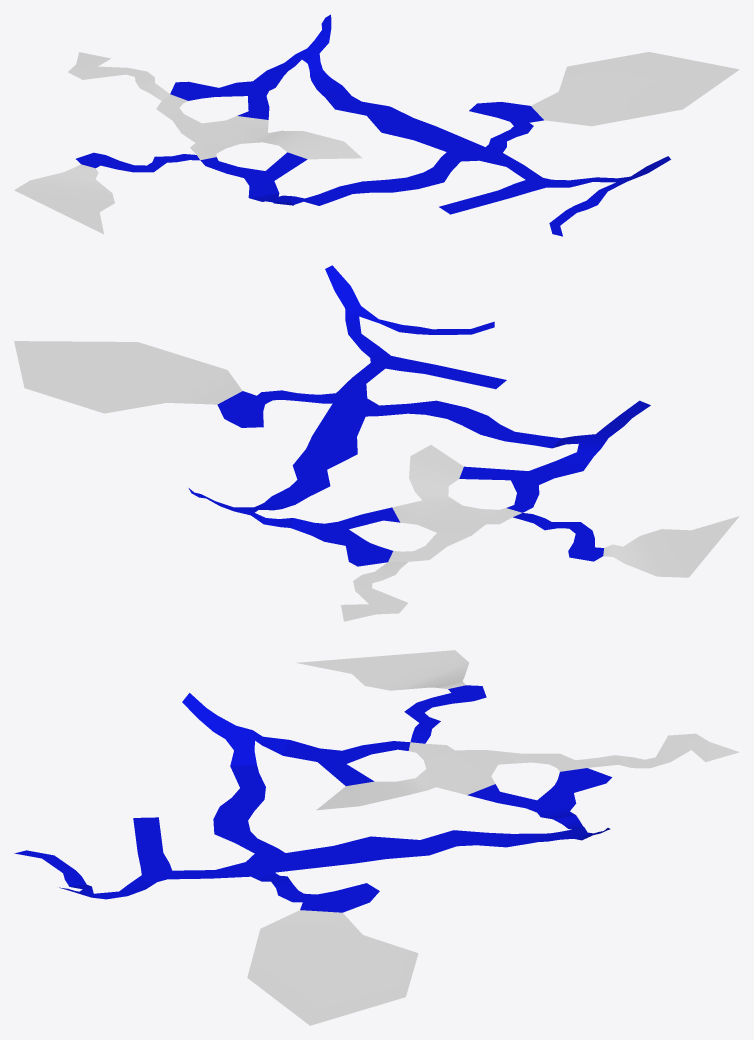
The model's file is Terrain_Rivers.fbx.
3 renders of one model, top to bottom at view 1: azimuth 30°, elevation 25°; view 2: azimuth 150°, elevation 25°; view 3: azimuth 270°, elevation 25°, orthographic. The views are drawn at different scales.
Parts seen in each view (by area): view 1: Lake_00, Lake_02, Lake_03, River.016, River, River.006, River.003, River.017, River.010, River.005, River.001, River.012 (+4 smaller); view 2: Lake_00, Lake_02, Lake_03, River.016, River, River.006, River.003, River.017, River.010, River.005, River.011, River.012 (+4 smaller); view 3: Lake_00, Lake_02, Lake_03, River.016, River, River.006, River.003, River.017, River.005, River.011, River.010, River.012 (+3 smaller).
Boxes of the visible parts, bbox=[...] form: Lake_00: bbox=[531, 52, 739, 126]; Lake_02: bbox=[156, 94, 362, 160]; Lake_03: bbox=[14, 164, 114, 234]; River.016: bbox=[348, 103, 502, 160]; River: bbox=[305, 152, 477, 205]; River.006: bbox=[439, 153, 596, 214]; River.003: bbox=[170, 70, 283, 119]; River.017: bbox=[200, 152, 307, 197]; River.010: bbox=[469, 102, 543, 152]; River.005: bbox=[68, 52, 169, 100]; River.001: bbox=[267, 14, 331, 80]; River.012: bbox=[76, 152, 199, 172]; Lake_00: bbox=[14, 341, 242, 413]; Lake_02: bbox=[388, 445, 522, 562]; Lake_03: bbox=[603, 516, 739, 577]; River.016: bbox=[292, 393, 367, 479]; River: bbox=[365, 398, 560, 448]; River.006: bbox=[336, 333, 506, 398]; River.003: bbox=[290, 507, 400, 566]; River.017: bbox=[459, 461, 582, 512]; River.010: bbox=[217, 390, 335, 427]; River.005: bbox=[341, 562, 407, 621]; River.011: bbox=[552, 400, 650, 470]; River.012: bbox=[513, 513, 603, 561]; Lake_00: bbox=[247, 910, 418, 1025]; Lake_02: bbox=[316, 742, 586, 810]; Lake_03: bbox=[296, 650, 468, 690]; River.016: bbox=[246, 834, 445, 876]; River: bbox=[213, 764, 284, 861]; River.006: bbox=[119, 817, 250, 895]; River.003: bbox=[467, 768, 611, 819]; River.017: bbox=[283, 740, 410, 785]; River.005: bbox=[576, 733, 739, 768]; River.011: bbox=[182, 693, 289, 766]; River.010: bbox=[251, 872, 379, 912]; River.012: bbox=[404, 685, 486, 743].
Bounding box in the file's own units: 72603 × 3749 × 58542.
